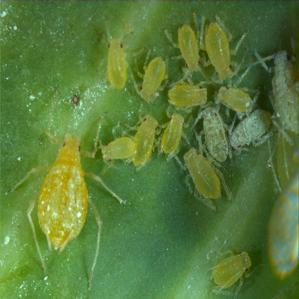Green peach aphid: (14, 110, 117, 279), (260, 41, 299, 149), (176, 141, 229, 213), (91, 25, 139, 95), (165, 6, 211, 78), (191, 106, 241, 167), (124, 106, 164, 181), (204, 238, 260, 291), (226, 109, 277, 164), (96, 128, 139, 180), (133, 51, 171, 101), (164, 75, 209, 112), (214, 81, 256, 119), (194, 50, 241, 81)
